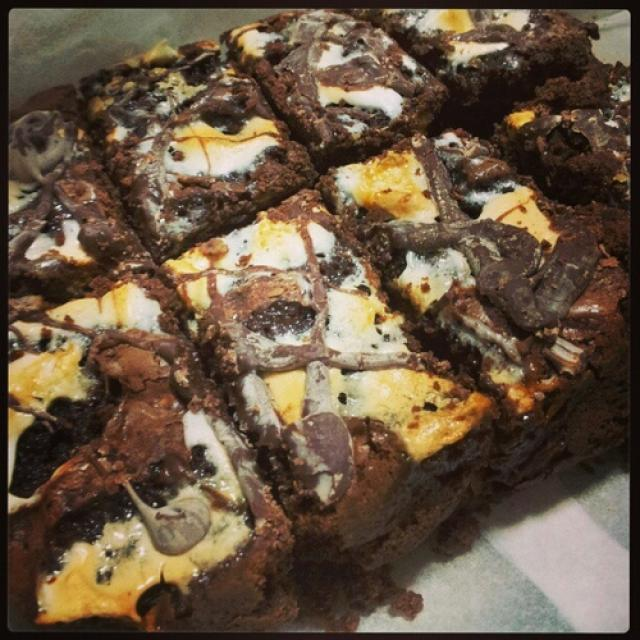蛋糕甜品: (15, 15, 608, 608)
